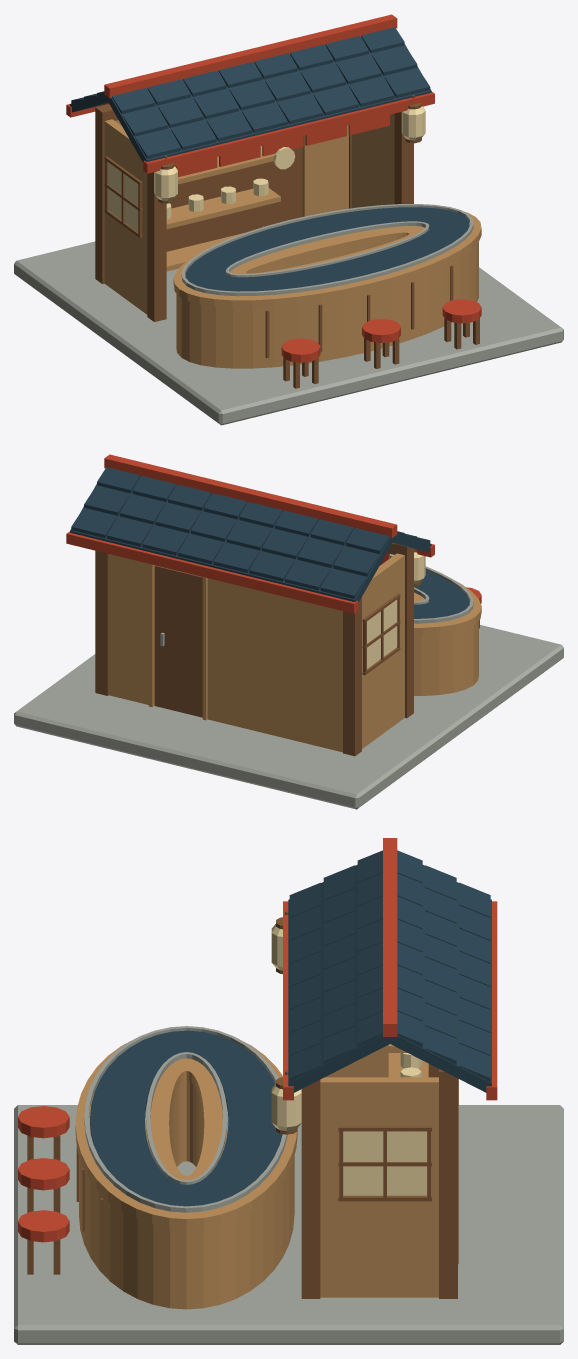
The model's file is conveyor-lv1.glb.
The picture shows the model from 3 angles, top to bottom: view 1: azimuth 30°, elevation 25°; view 2: azimuth 150°, elevation 25°; view 3: azimuth 270°, elevation 25°; orthographic projection. The views are drawn at different scales.
Visible parts, largest first — view 1: Conveyor_L1; view 2: Conveyor_L1; view 3: Conveyor_L1.
Boxes of the visible parts, x1,y1,x2,y2 form: Conveyor_L1: (14, 14, 563, 425); Conveyor_L1: (14, 454, 563, 809); Conveyor_L1: (14, 838, 563, 1344).
Size of the model in its own units: 4.8 by 3.05 by 5.
